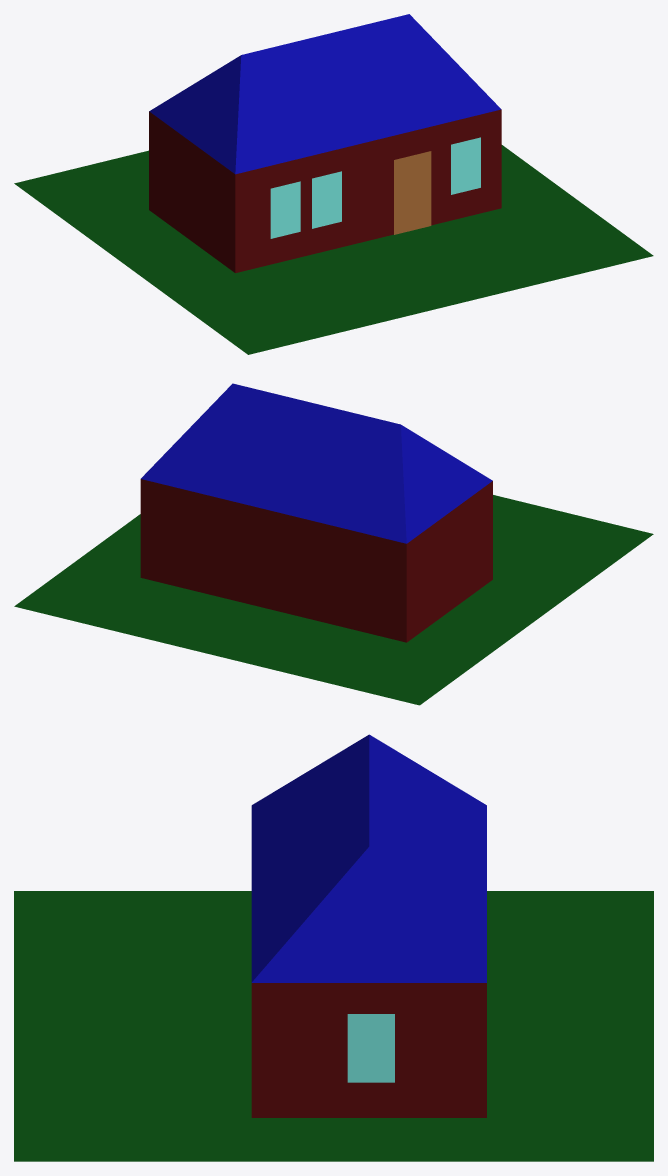
The model's file is bldg_house_01.FBX.
The picture shows the model from 3 angles, top to bottom: view 1: azimuth 30°, elevation 25°; view 2: azimuth 150°, elevation 25°; view 3: azimuth 270°, elevation 25°; orthographic projection. The views are drawn at different scales.
Parts seen in each view (by area): view 1: house_01_mid, groundTile_grass; view 2: house_01_mid, groundTile_grass; view 3: groundTile_grass, house_01_mid.
Boxes of the visible parts, x1,y1,x2,y2 form: house_01_mid: [149, 14, 501, 273]; groundTile_grass: [14, 145, 653, 354]; house_01_mid: [140, 383, 492, 642]; groundTile_grass: [14, 495, 653, 705]; groundTile_grass: [14, 891, 653, 1161]; house_01_mid: [251, 734, 486, 1117].
Bounding box in the file's own units: 945 × 395 × 945.
